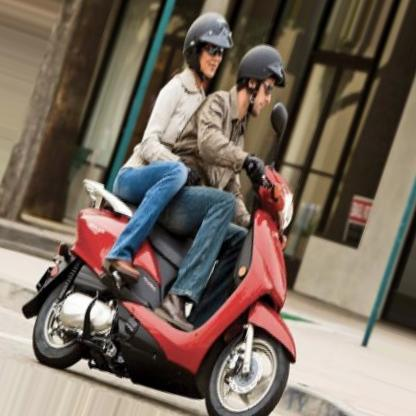with helmet: (235, 42, 286, 117), (183, 12, 233, 79)
